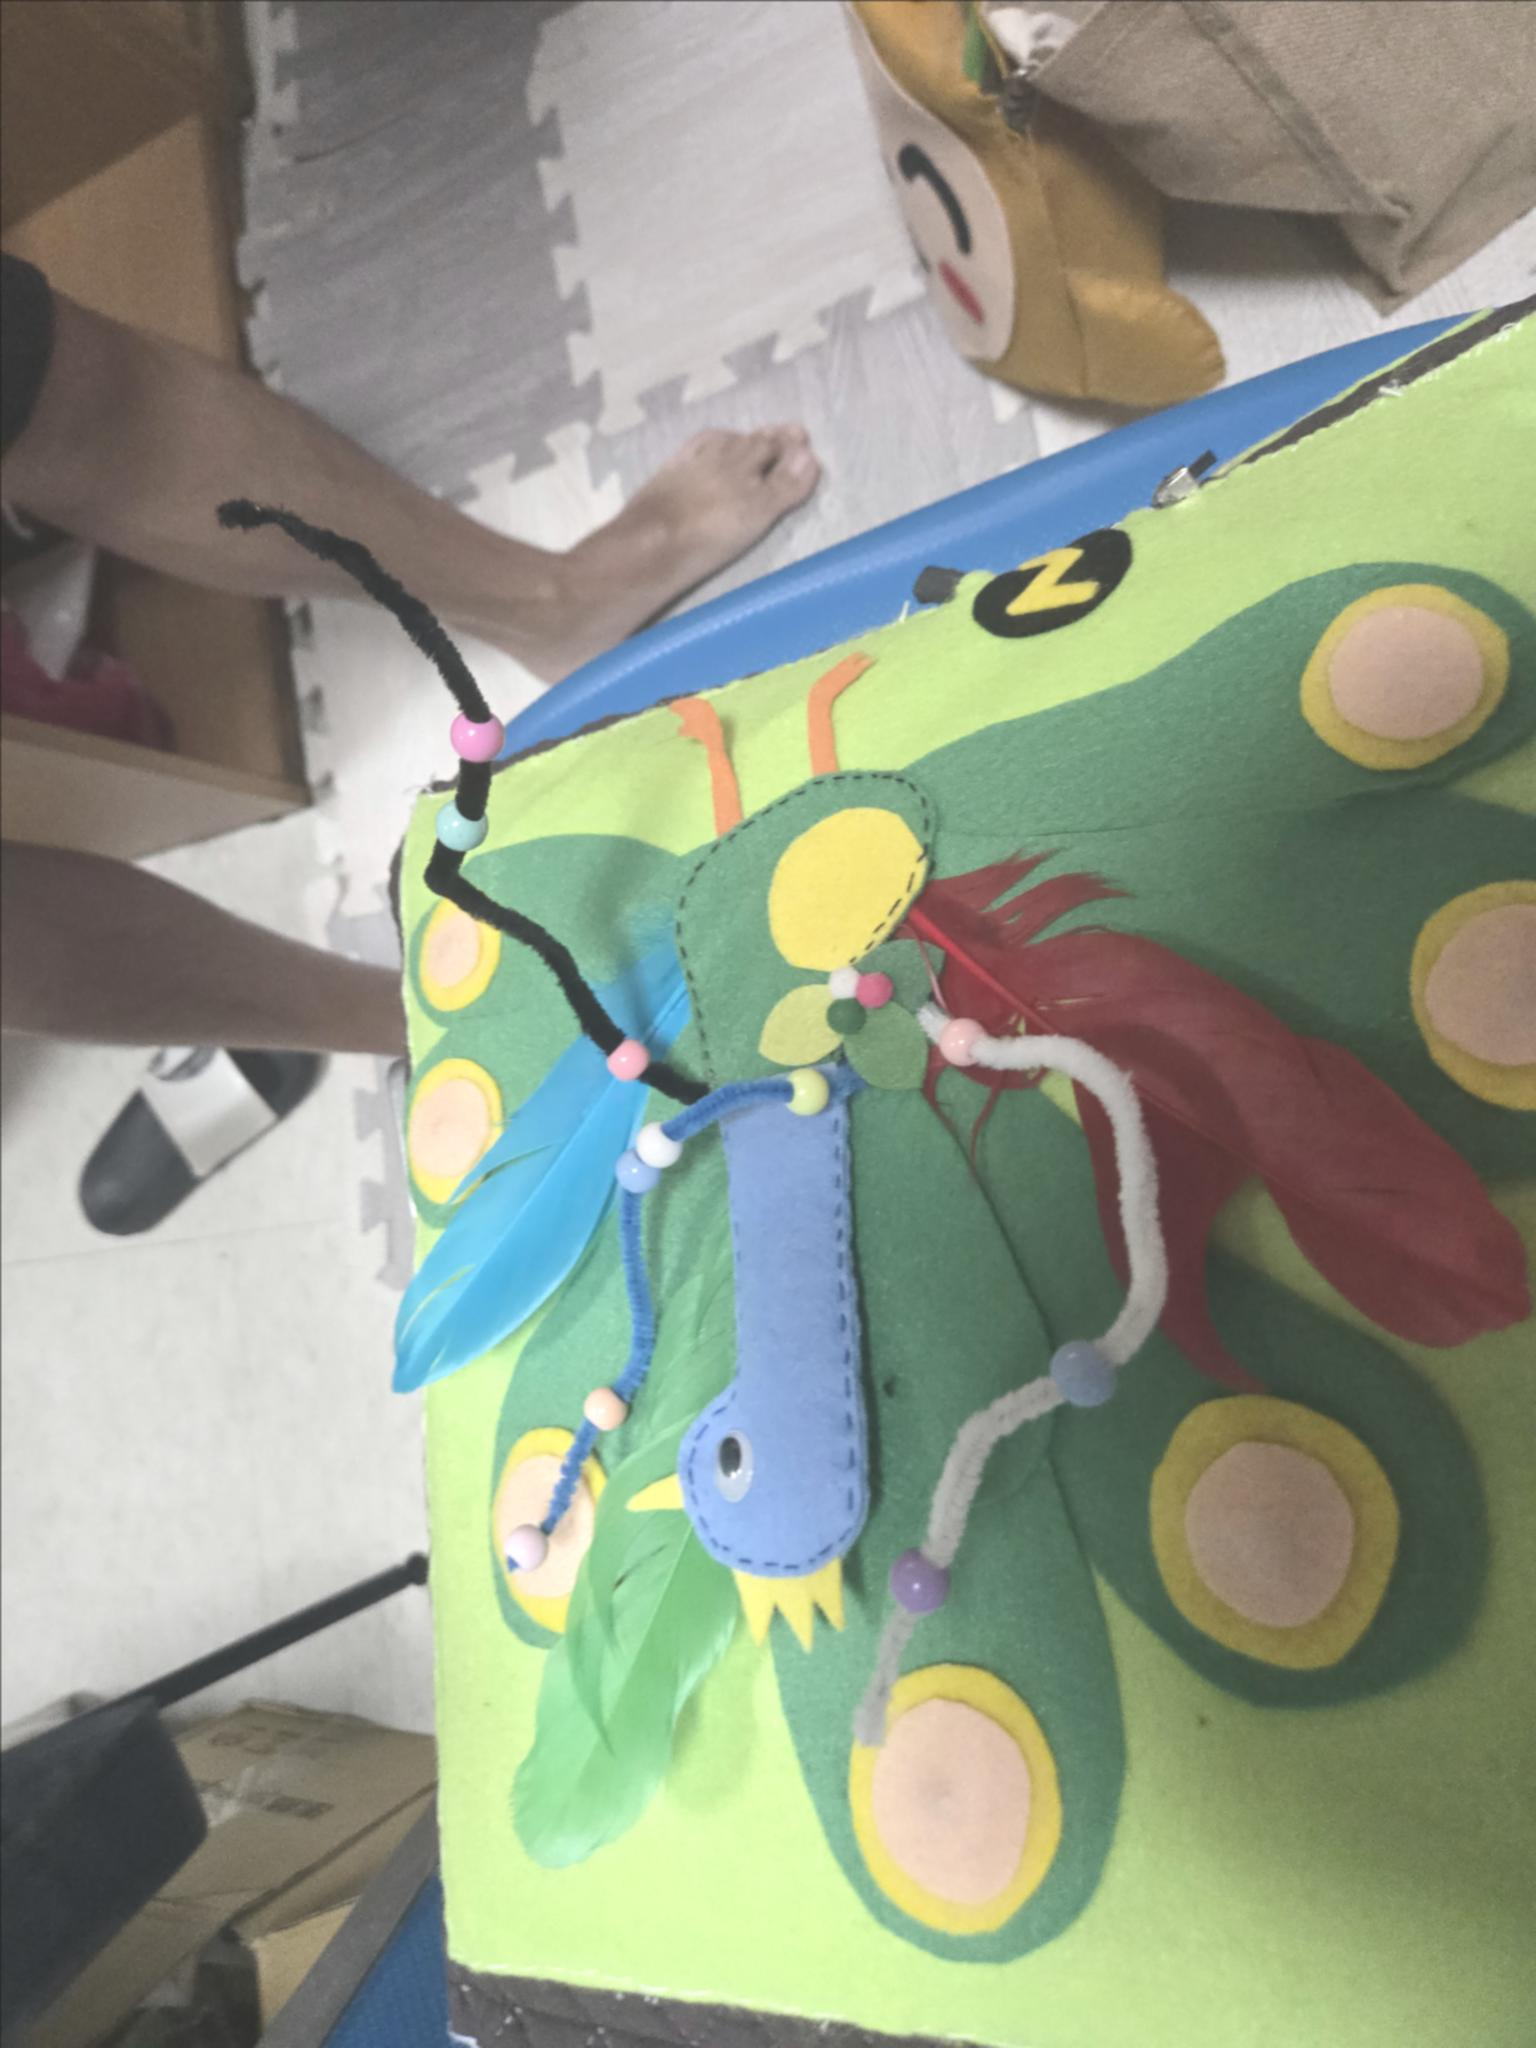bead: (1034, 1332, 1120, 1426), (881, 1537, 958, 1625), (440, 701, 516, 780), (424, 797, 497, 868), (928, 1005, 989, 1077), (573, 1382, 636, 1447), (783, 1056, 833, 1134), (492, 1517, 558, 1574), (624, 1114, 689, 1171), (594, 1034, 662, 1082), (610, 1151, 642, 1206)
